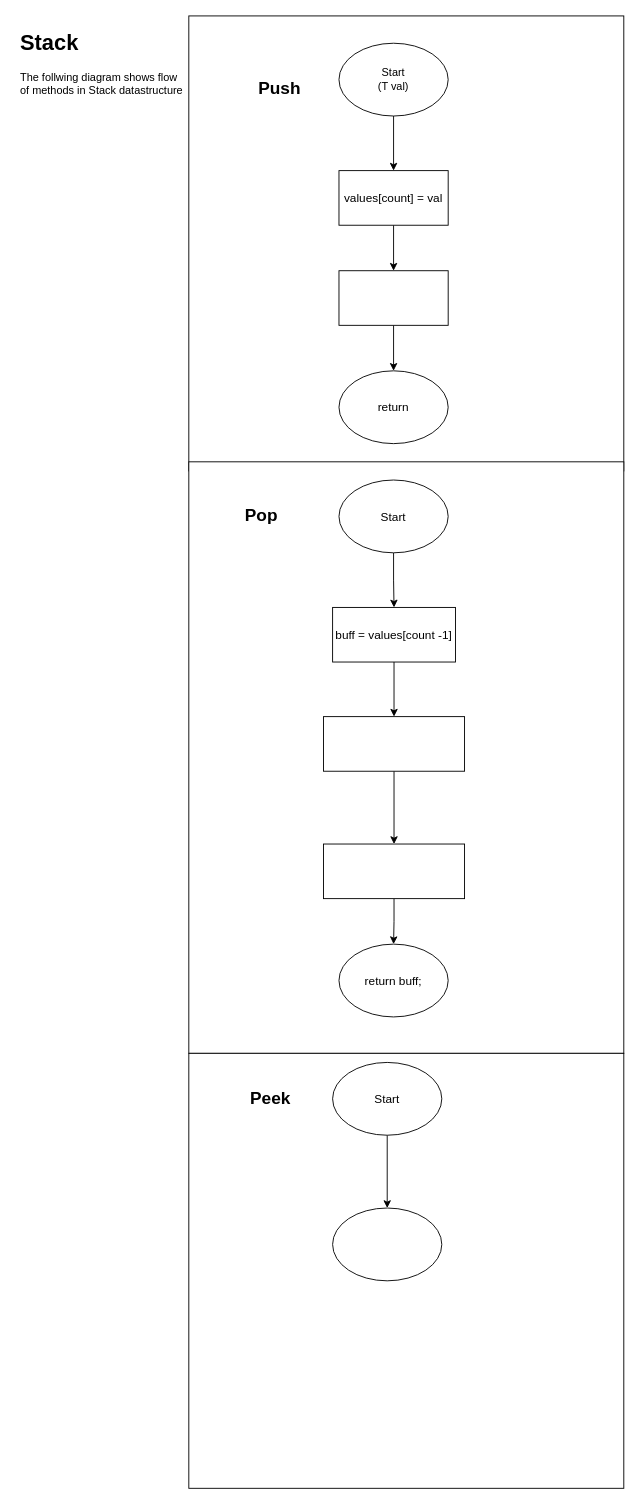
This 640x1504 diagram has some shape labels left out. Each missing label, with the box of its shape:
count++: (338, 270, 448, 325)
count--: (323, 843, 465, 899)
return values[count -1]: (332, 1207, 442, 1281)
values[count - 1] = null: (323, 716, 465, 771)
